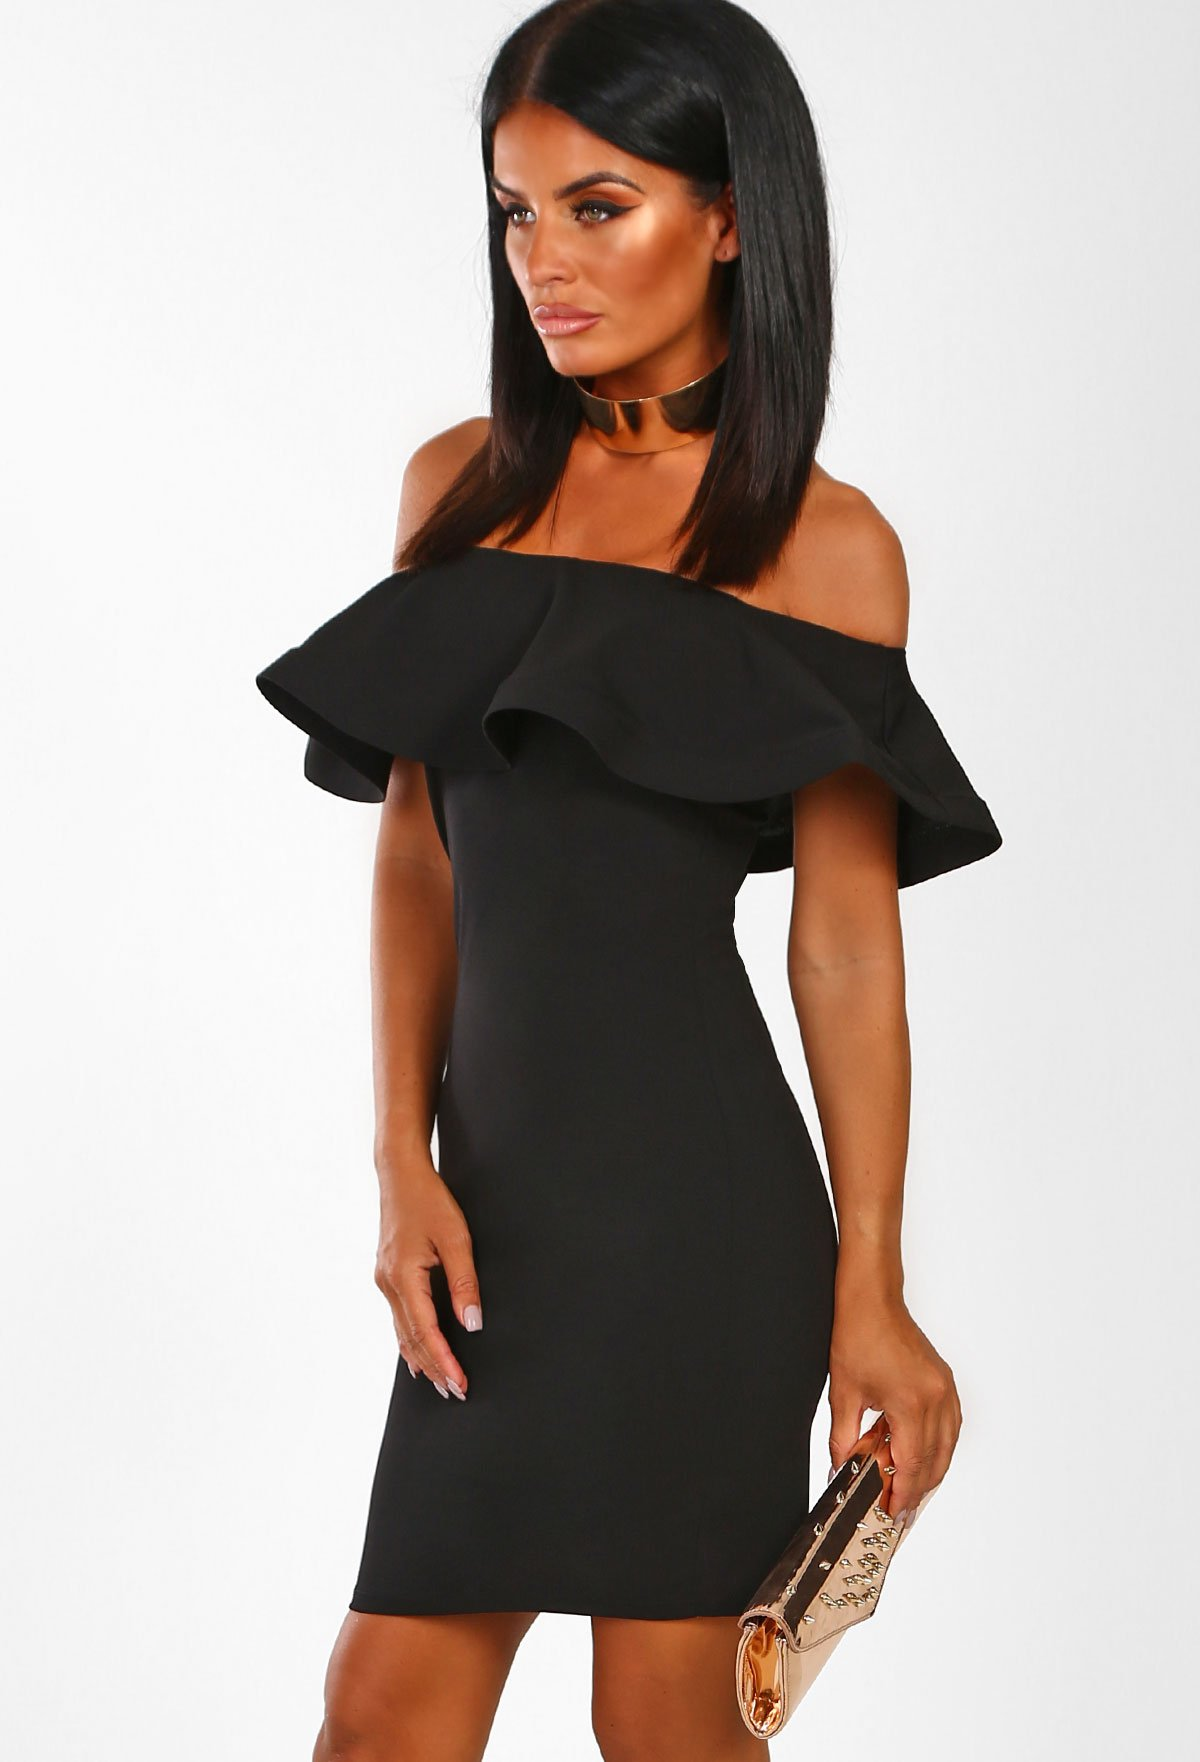S_dress: (256, 537, 967, 1605)
